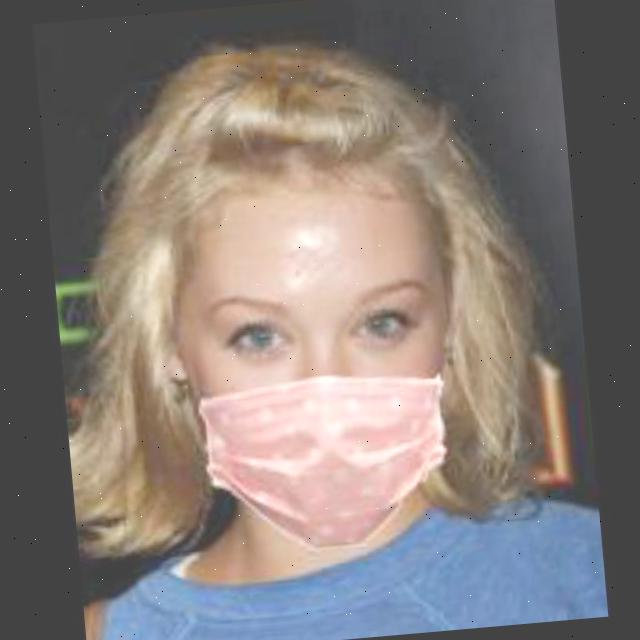suspicion: (128, 97, 483, 578)
